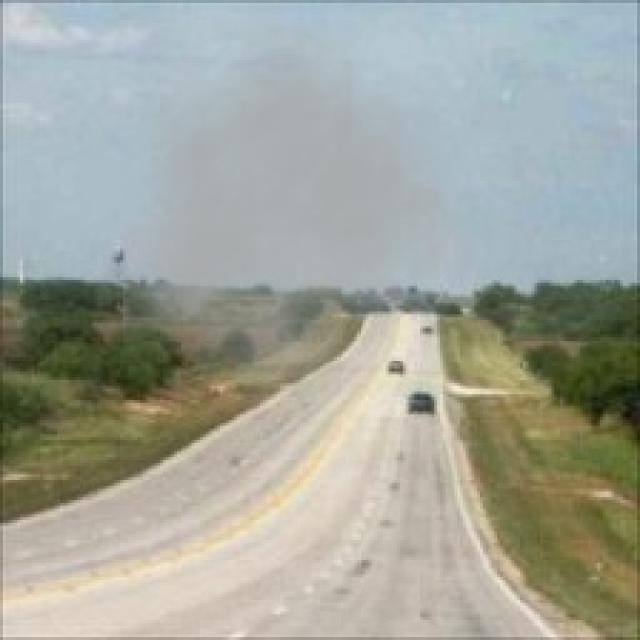smoke: (123, 11, 491, 420)
